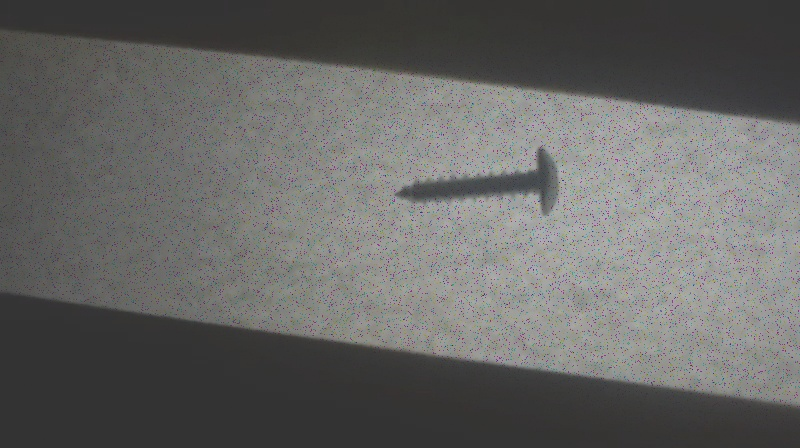S003: (388, 145, 564, 217)
